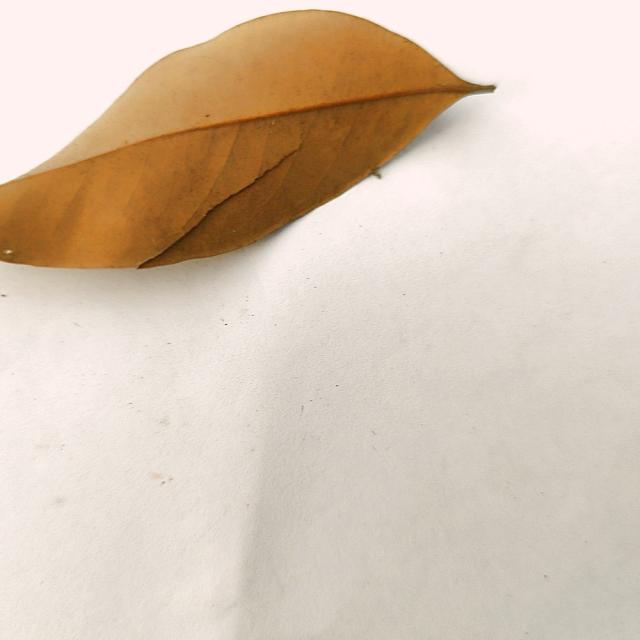Dry_Leaf-Lychee: (0, 10, 497, 272)
